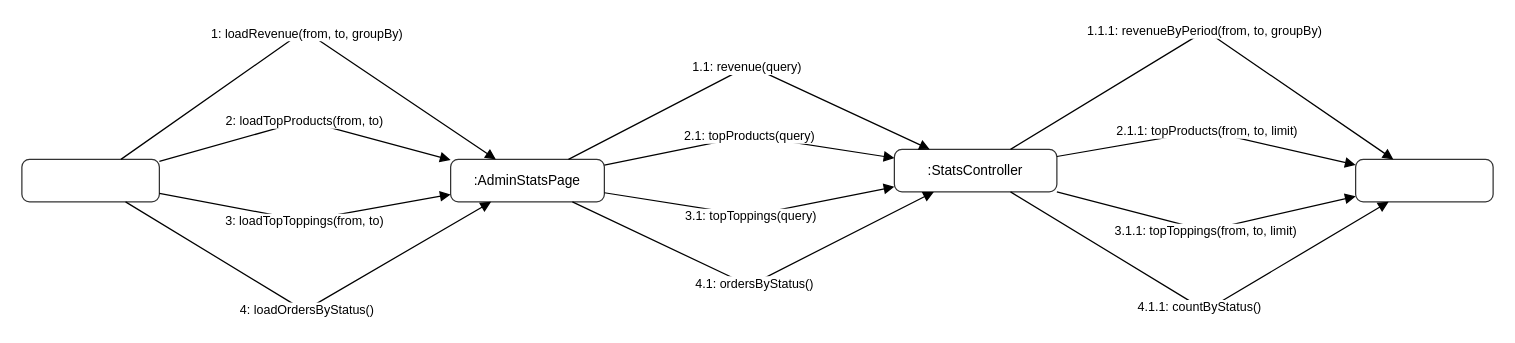
Image size: 1515x343. Some labels were removed from this diagram. Each missing label, with the centre of its shape:
:Manager: [90,180]
:StatsService: [1423,180]
